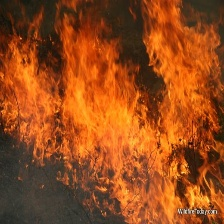fire: (3, 3, 224, 218)
